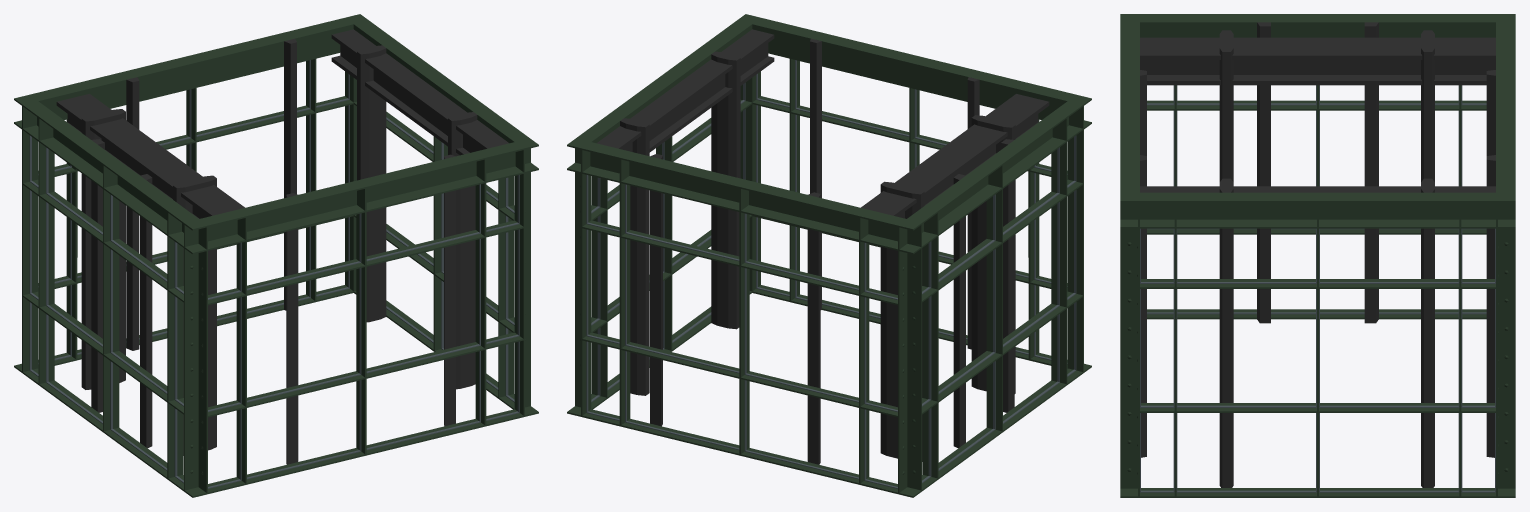
Rendered from SW_ENV_Elevator_Shaft_Street_Interfloor_FF.fbx.
3 renders of one model, left to right at view 1: azimuth 30°, elevation 25°; view 2: azimuth 150°, elevation 25°; view 3: azimuth 270°, elevation 25°, orthographic. The views are drawn at different scales.
Visible parts, largest first — view 1: SW_ENV_Elevator_Shaft_Street_Interfloor_FF; view 2: SW_ENV_Elevator_Shaft_Street_Interfloor_FF; view 3: SW_ENV_Elevator_Shaft_Street_Interfloor_FF.
Boxes of the visible parts, <box> form: SW_ENV_Elevator_Shaft_Street_Interfloor_FF: <box>14,14,538,497</box>; SW_ENV_Elevator_Shaft_Street_Interfloor_FF: <box>567,14,1091,497</box>; SW_ENV_Elevator_Shaft_Street_Interfloor_FF: <box>1120,14,1515,497</box>.
Bounding box in the file's own units: 472 × 350 × 422.
